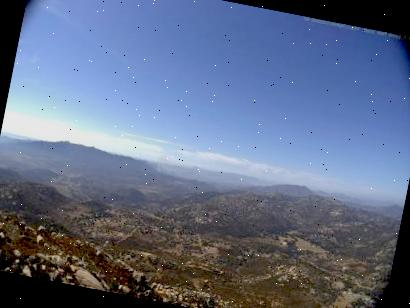smoke: (152, 151, 179, 176)
